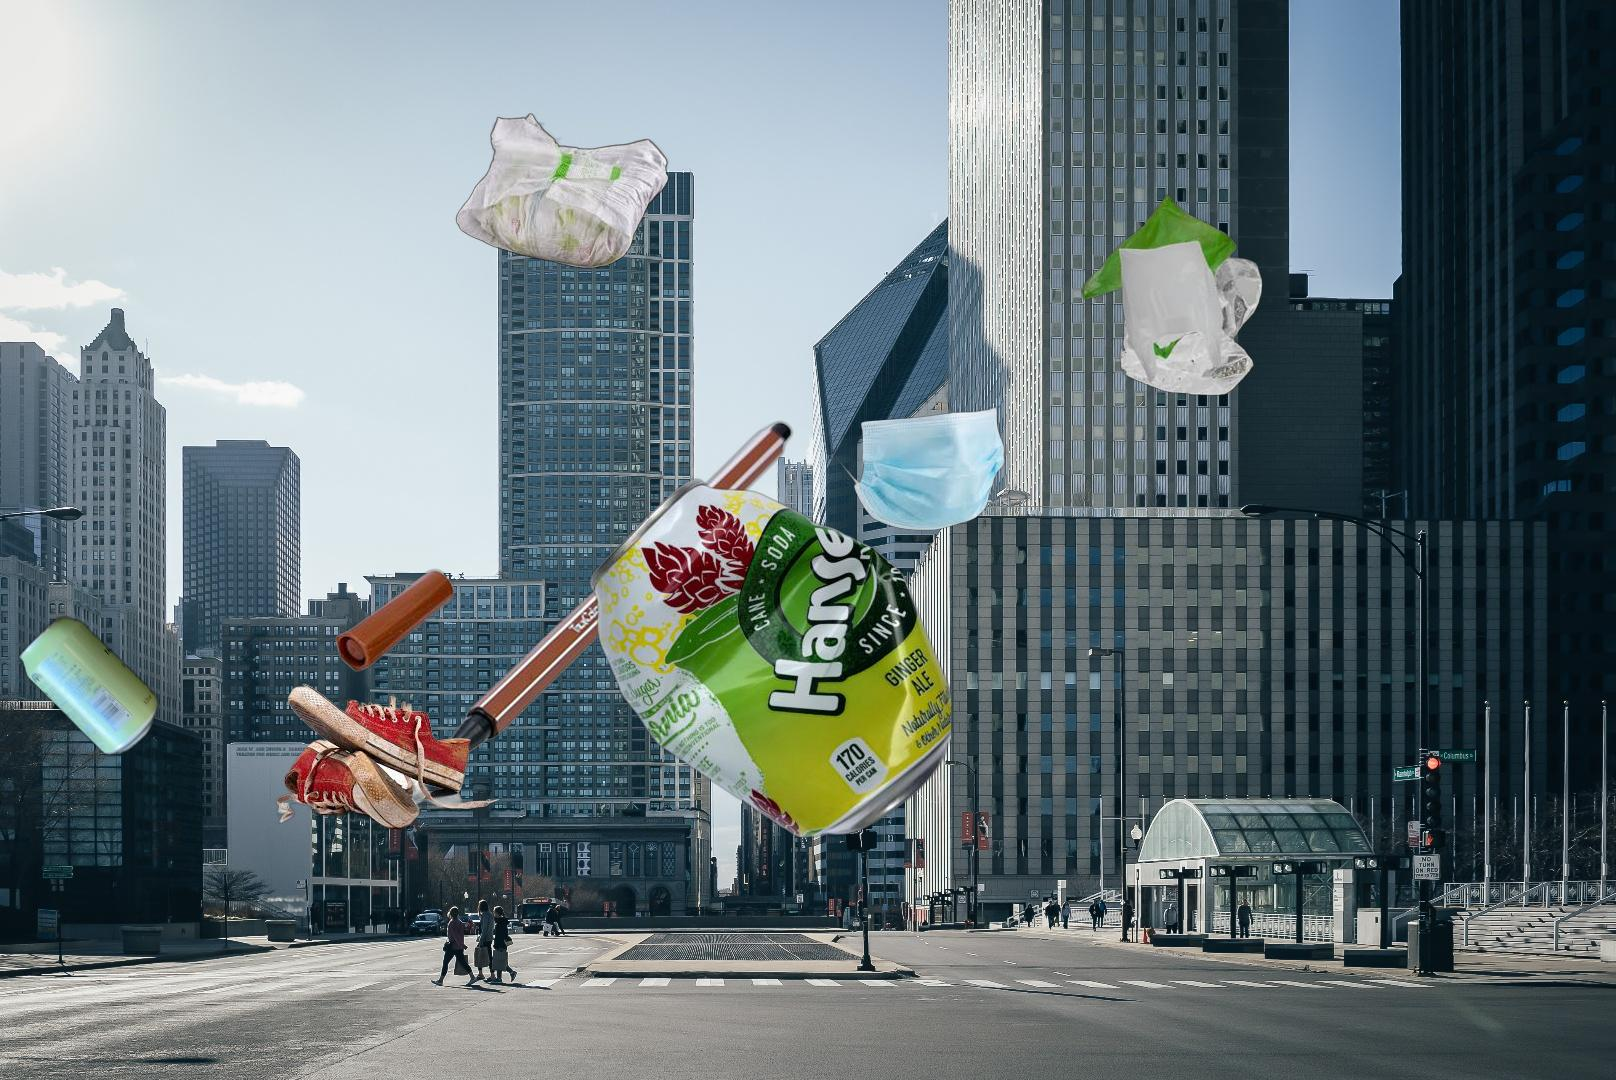metal-cans: (586, 476, 951, 841), (14, 610, 163, 762)
penholder: (329, 416, 797, 783)
plastic-bag: (1080, 193, 1264, 398)
shoes: (275, 680, 503, 832)
trash: (453, 111, 672, 271), (810, 372, 1007, 533)
